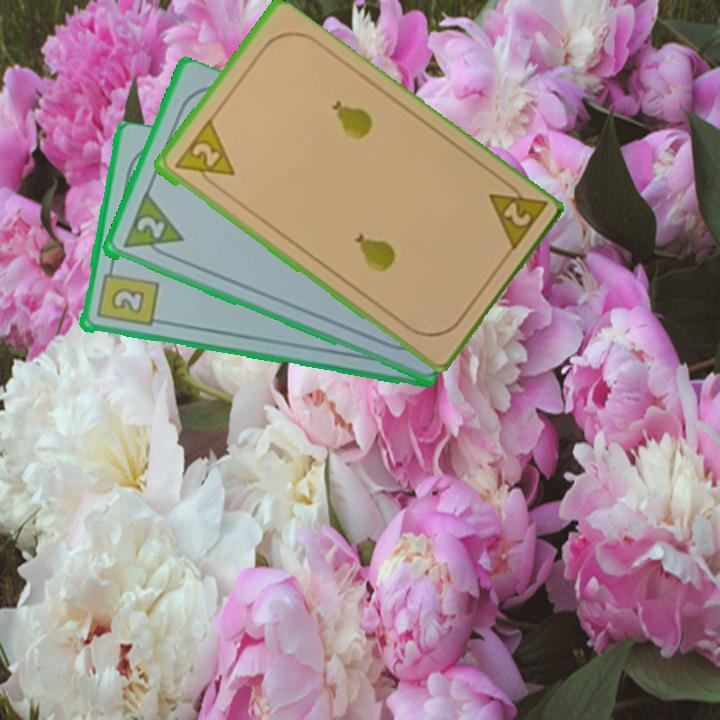2b: (93, 261, 160, 330)
2p: (483, 173, 549, 256), (168, 117, 237, 193), (132, 212, 168, 242)
